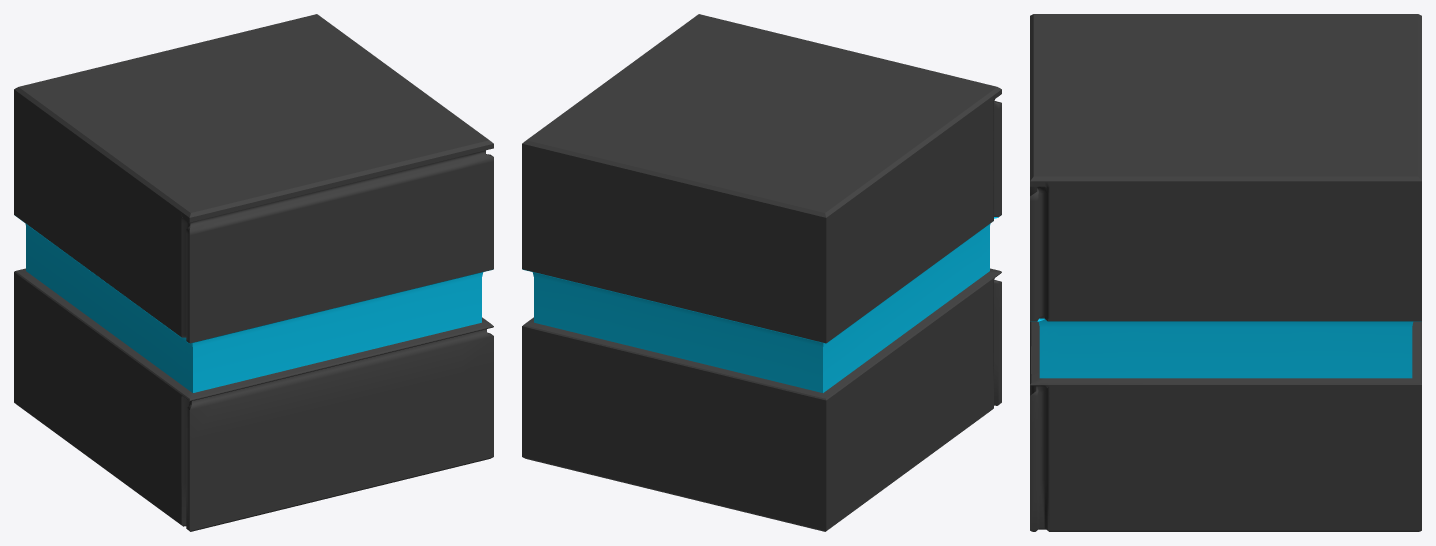
File: storage1.fbx
The picture shows the model from 3 angles, left to right: view 1: azimuth 30°, elevation 25°; view 2: azimuth 150°, elevation 25°; view 3: azimuth 270°, elevation 25°; orthographic projection. The views are drawn at different scales.
Parts seen in each view (by area): view 1: Nightstand; view 2: Nightstand; view 3: Nightstand.
Part boxes in pixels (x1,y1,x2,y2): Nightstand: (14, 14, 493, 531); Nightstand: (522, 14, 1001, 531); Nightstand: (1030, 14, 1421, 531).
Bounding box in the file's own units: 15.67 × 15.88 × 15.67.
